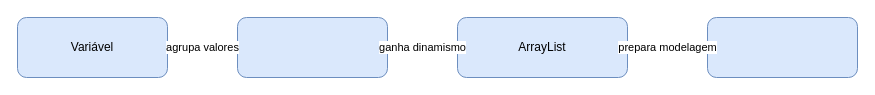
This 875x95 diagram has some shape labels left out. Each missing label, with the centre of its shape:
"Array" goes at (312,47).
"Objetos" goes at (782,47).
